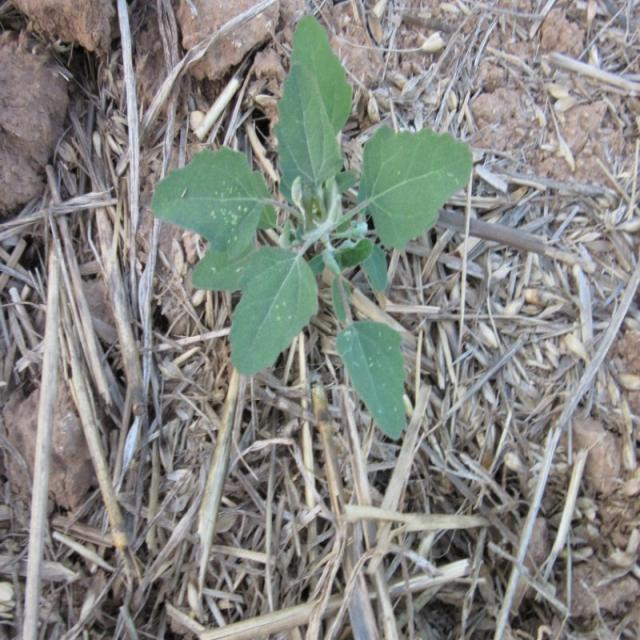ca: (152, 16, 472, 443)
